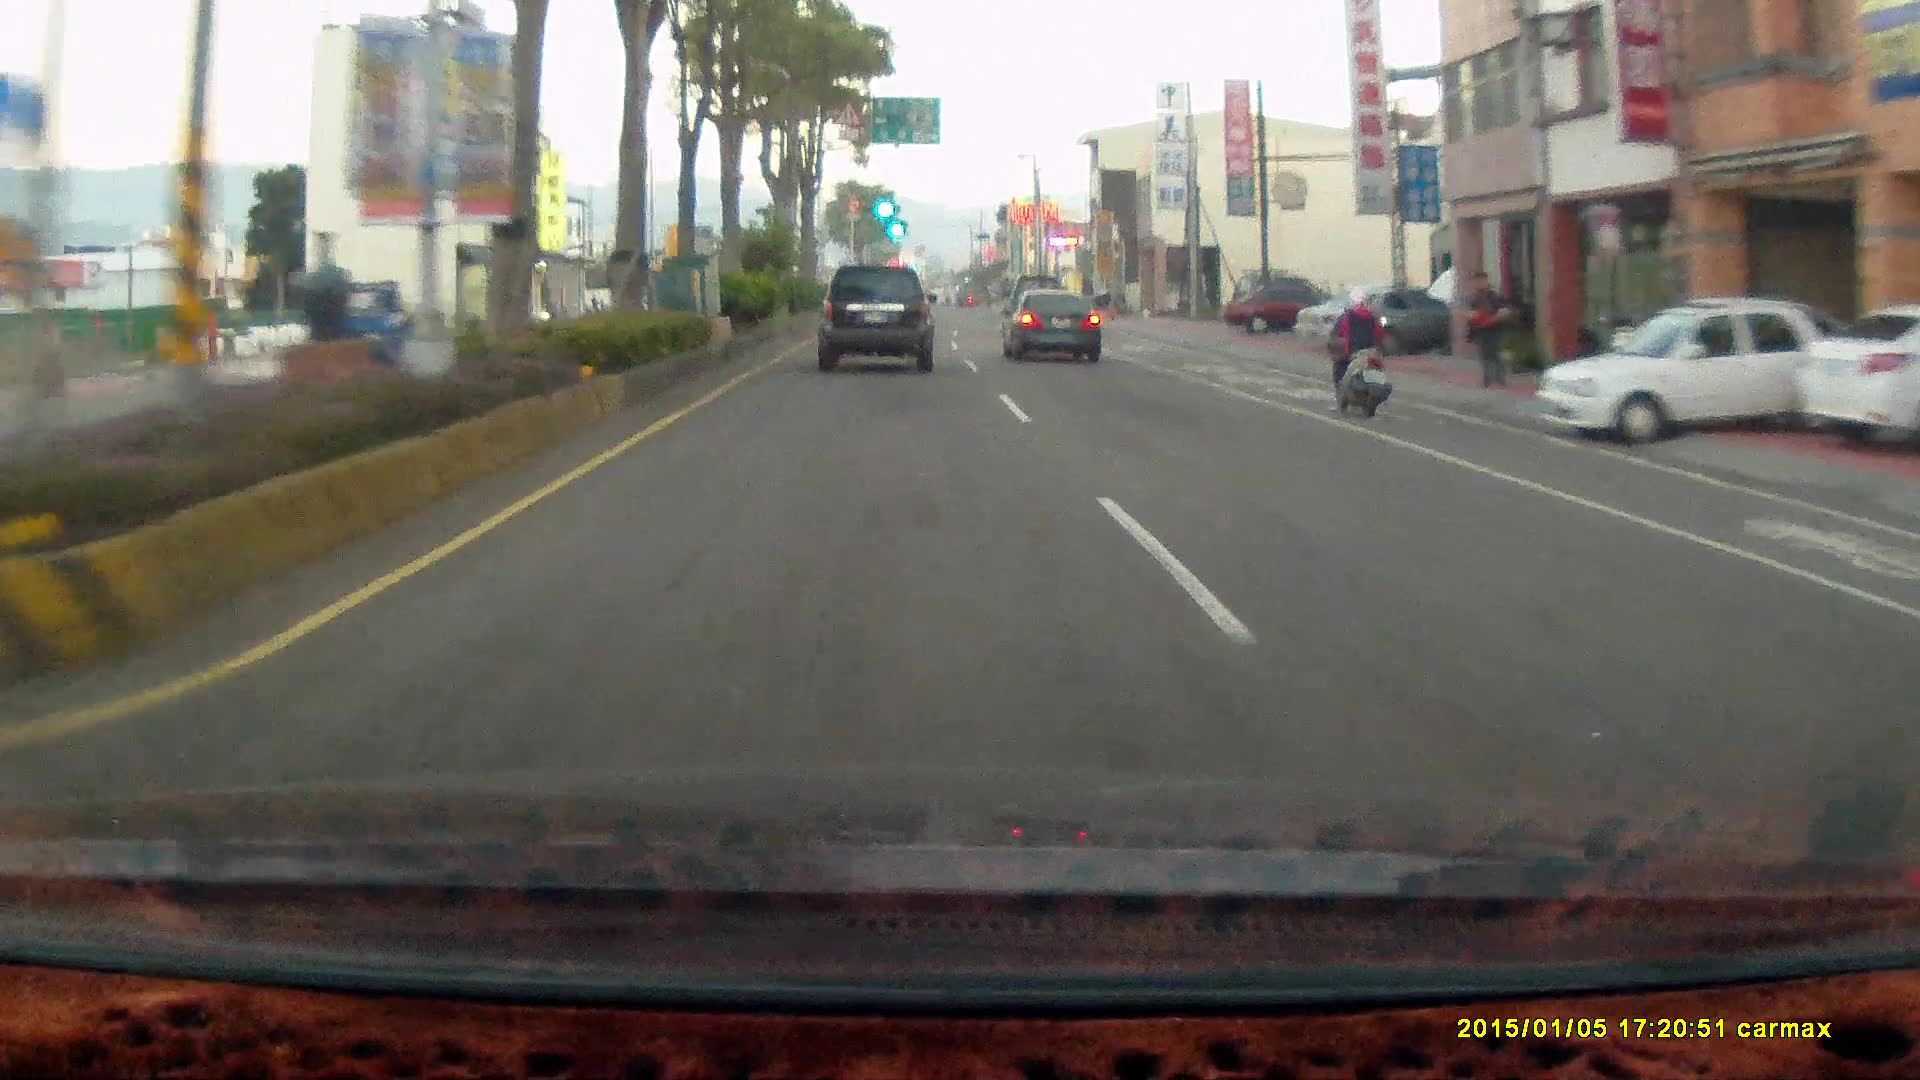pedestrian: (1455, 266, 1513, 392)
rider: (1313, 279, 1404, 428), (1324, 288, 1392, 420)
vehicle: (1537, 301, 1848, 461), (1533, 303, 1847, 449), (1792, 306, 1920, 456), (1792, 303, 1920, 454), (811, 263, 941, 383), (815, 265, 937, 374), (1292, 293, 1466, 368), (1294, 287, 1474, 356), (999, 288, 1102, 364), (1001, 295, 1104, 369), (1224, 284, 1352, 333)
